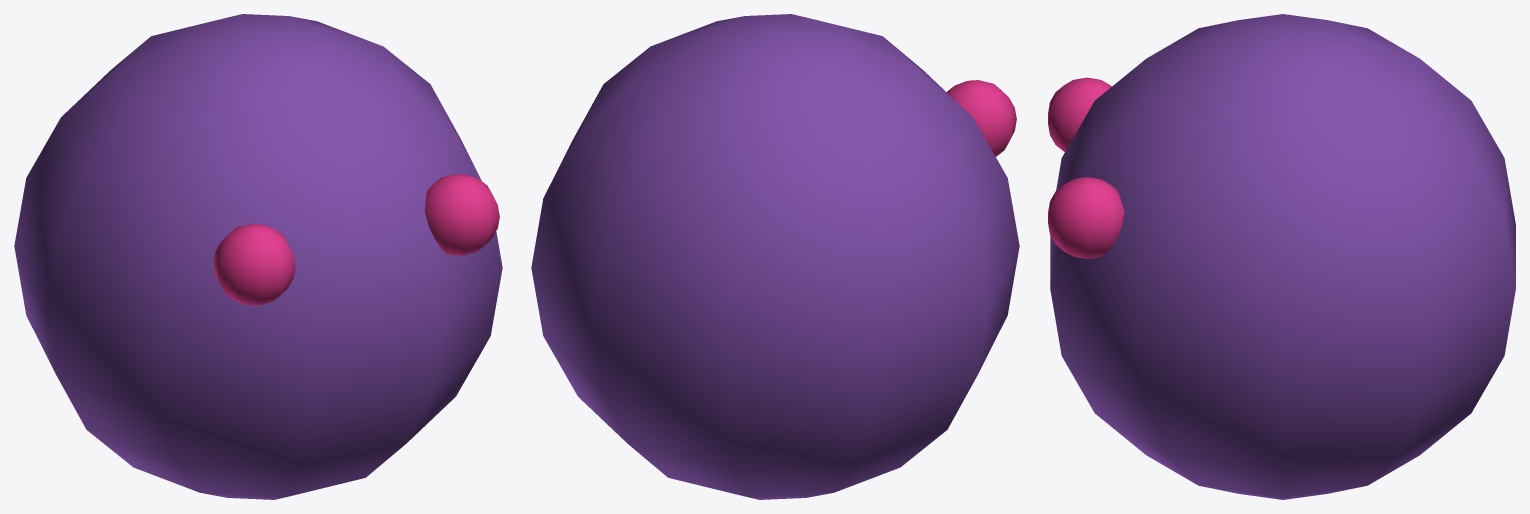
The model's file is ShadowMonsterAnim00.fbx.
3 views of the same model, side by side, from view 1: azimuth 30°, elevation 25°; view 2: azimuth 150°, elevation 25°; view 3: azimuth 270°, elevation 25° (orthographic).
Visible parts, largest first — view 1: pSphere4; view 2: pSphere4; view 3: pSphere4.
Part boxes in pixels (left/top/right/bottom): pSphere4: left=14, top=14, right=502, bottom=499; pSphere4: left=531, top=14, right=1019, bottom=499; pSphere4: left=1048, top=14, right=1515, bottom=499.
Size of the model in its own units: 100 by 100 by 95.56.
